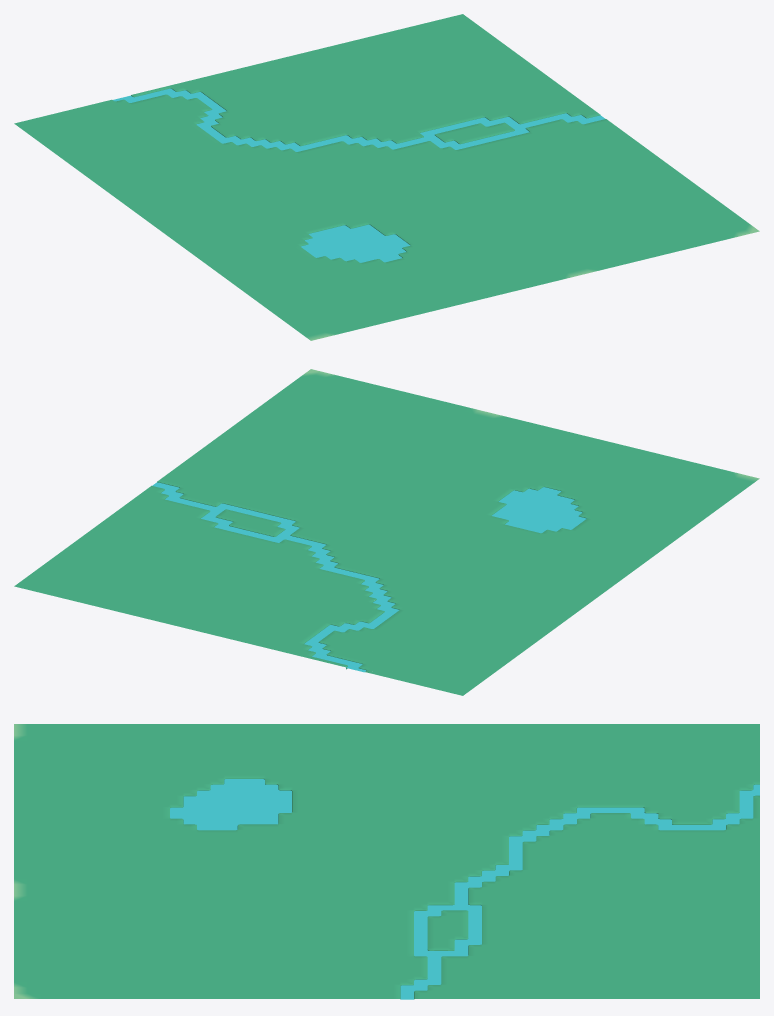
The model's file is Terrain Mesh Optimized.glb.
3 views of the same model, one above another, from view 1: azimuth 30°, elevation 25°; view 2: azimuth 150°, elevation 25°; view 3: azimuth 270°, elevation 25° (orthographic). The views are drawn at different scales.
Visible parts, largest first — view 1: square_water_detail2; view 2: square_water_detail2; view 3: square_water_detail2.
Part boxes in pixels (x1,y1,x2,y2): square_water_detail2: [14, 14, 759, 340]; square_water_detail2: [14, 369, 759, 695]; square_water_detail2: [14, 724, 759, 999].
Bounding box in the file's own units: 96 × 0.4588 × 110.
Materials: 3 (1 with a texture image).
